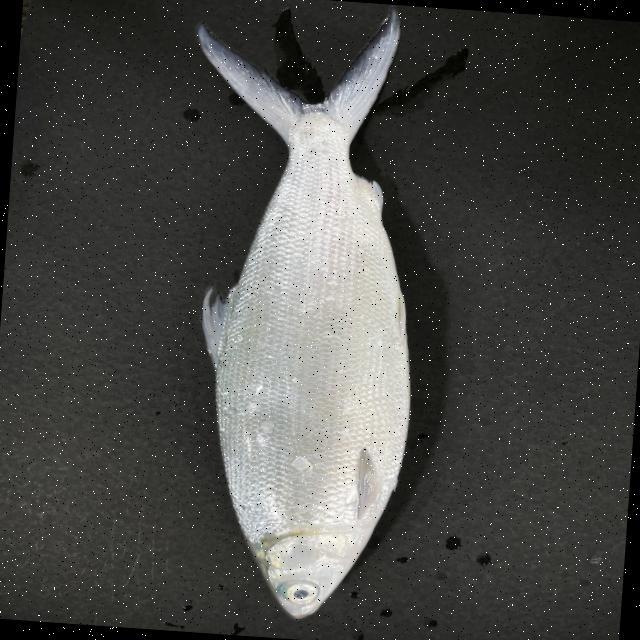800 g: (154, 0, 439, 624)
